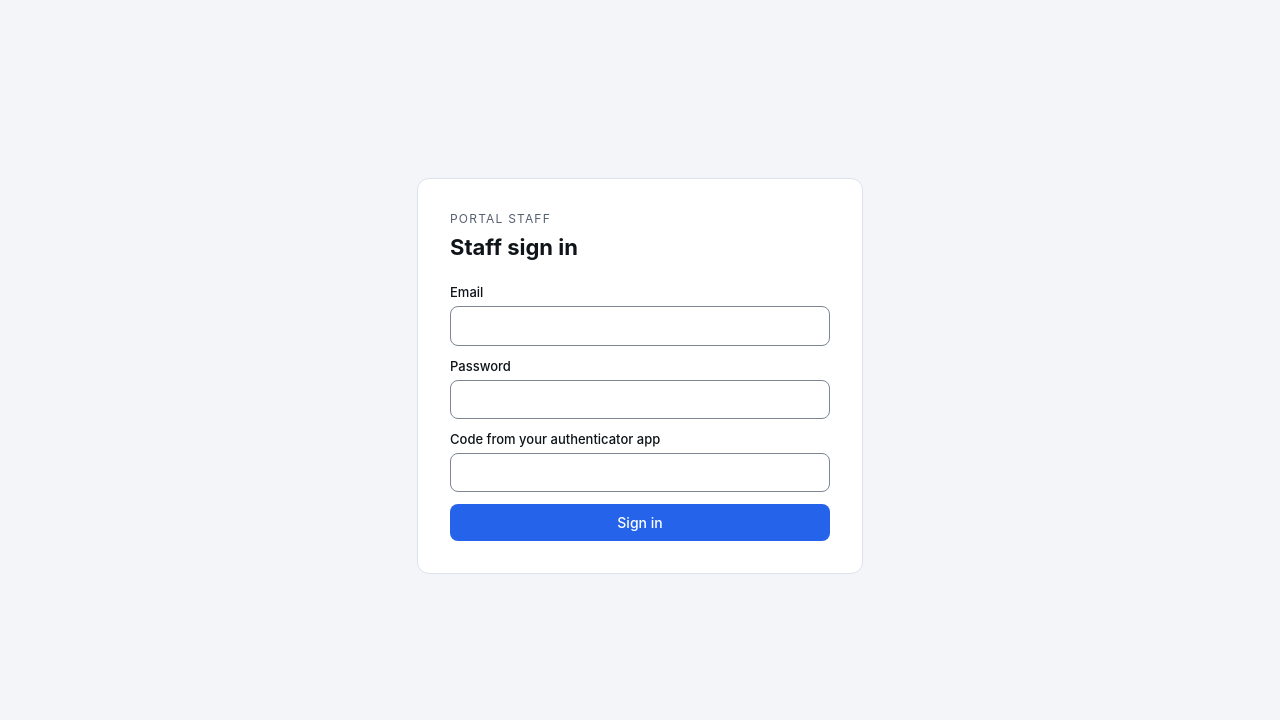
it: staff page › signs in with email, password and authenticator code
The image size is (1280, 720).
Step 1. Type "ann@firm.test" into the field labelled "Email" → (640, 326), box [450,306,830,346]
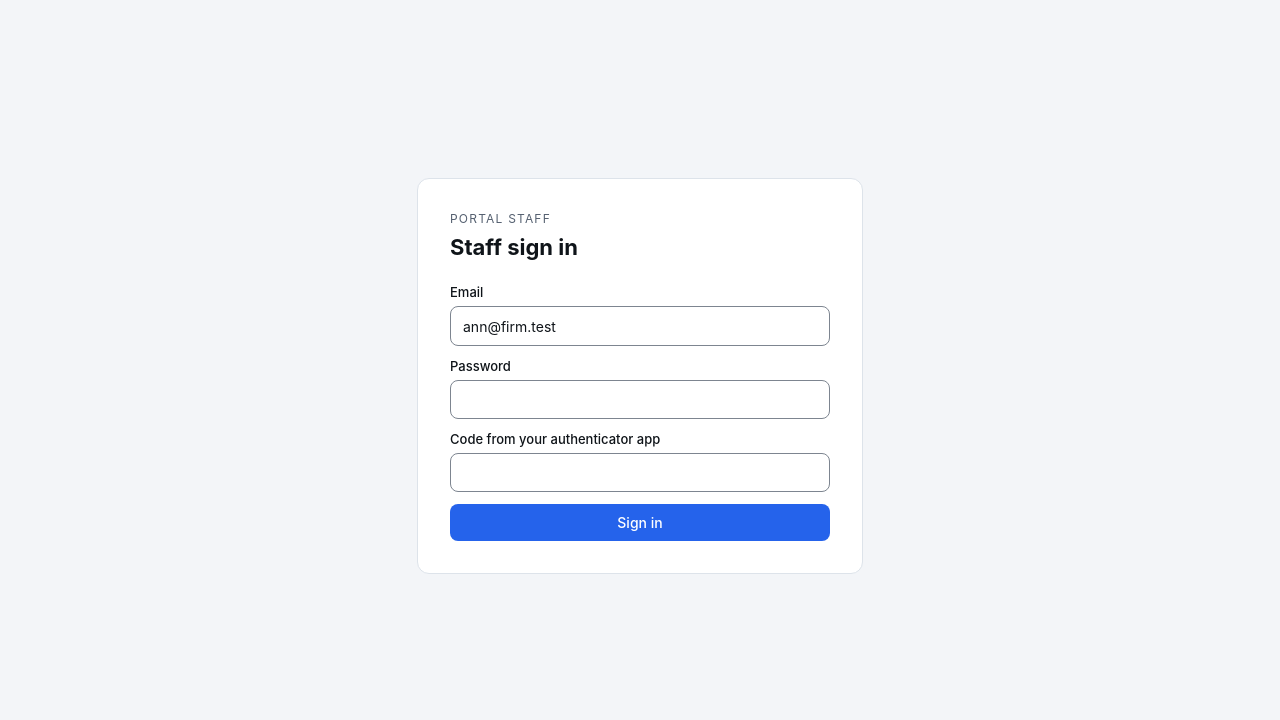
Step 2. Type "a long password" into the password field labelled "Password" → (640, 400), box [450,380,830,419]
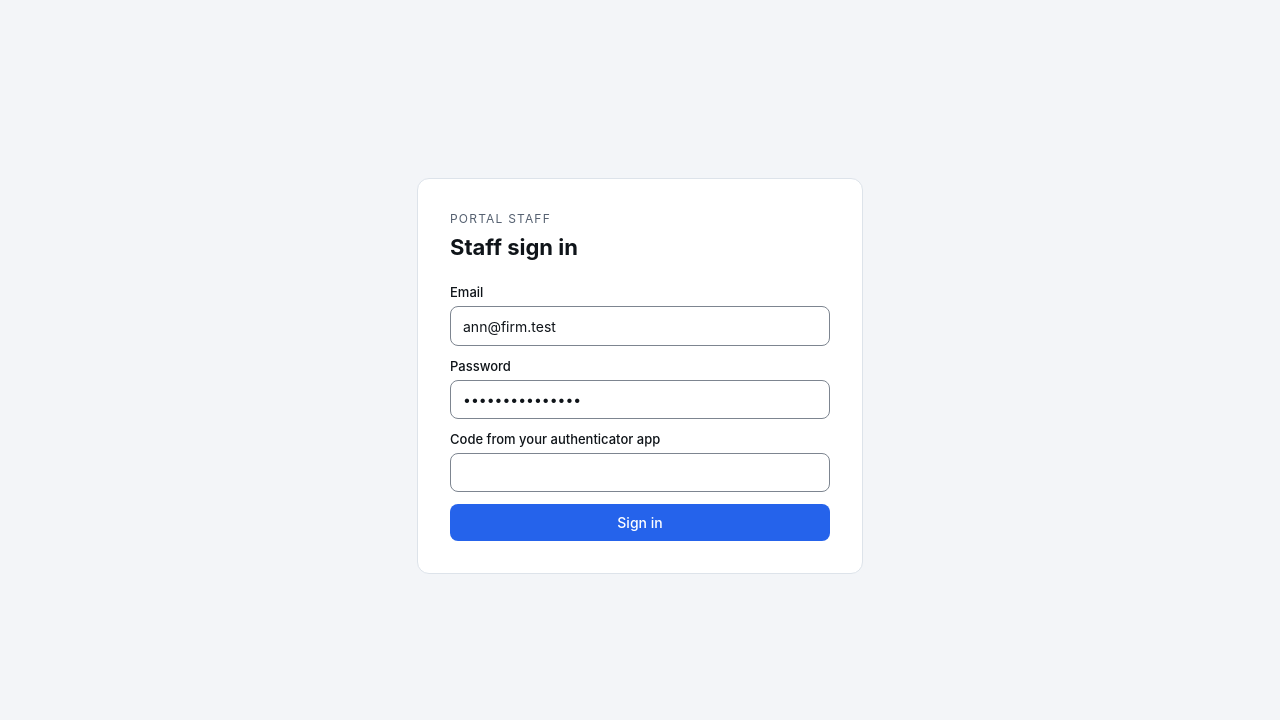
Step 3. Type "123456" into the field labelled "Code from your authenticator app" → (640, 472), box [450,453,830,492]
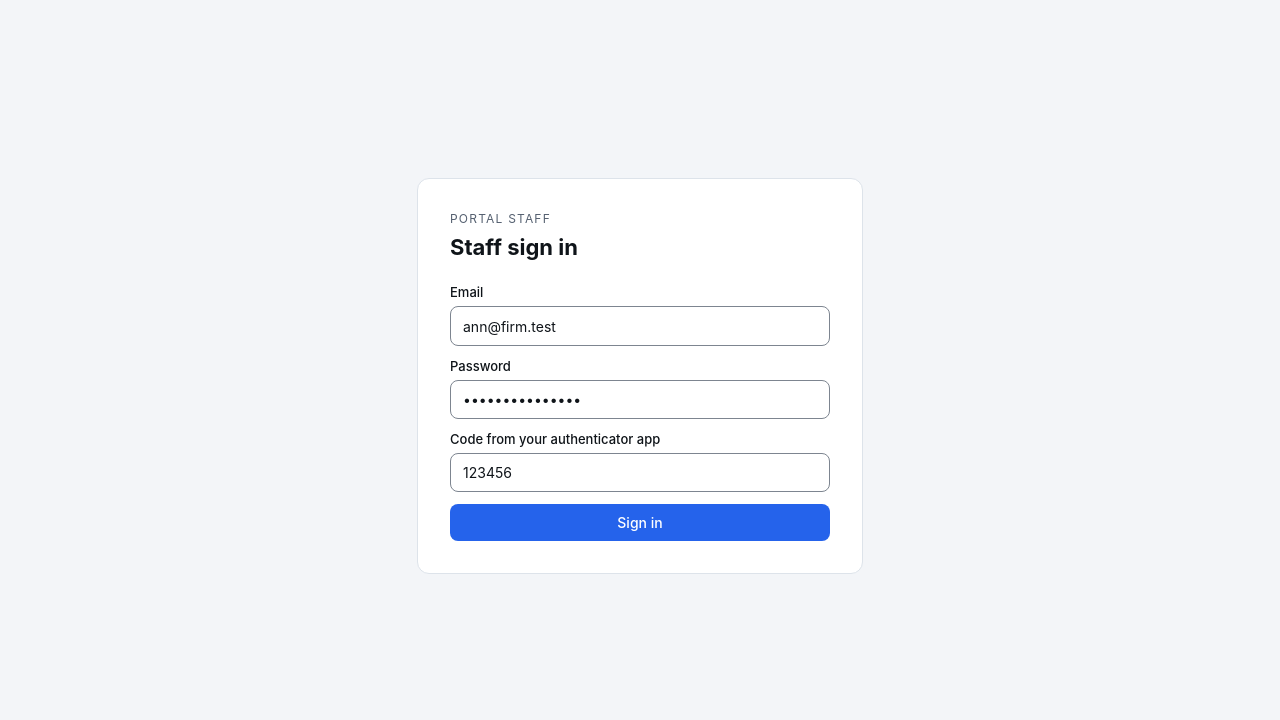
Step 4. Click the button "Sign in" → click(640, 522), box [450,504,830,541]
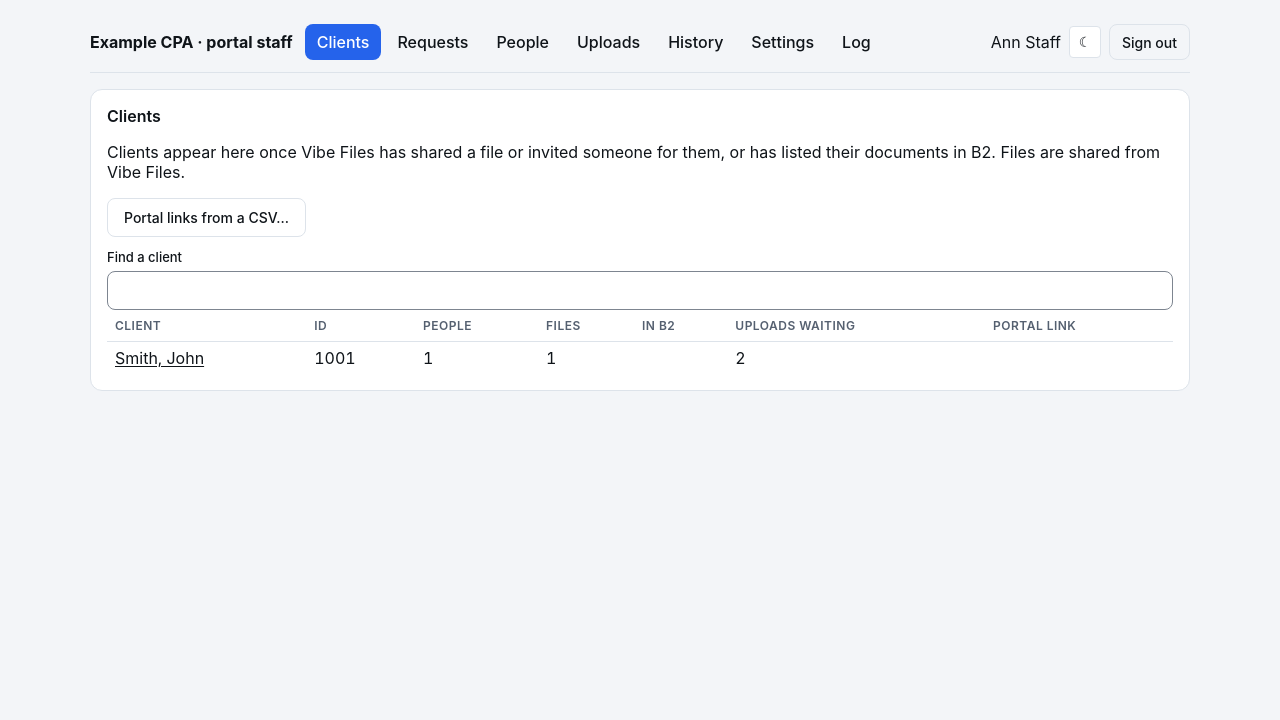
Expected: the link "Smith, John" is shown, [115,348,204,368]
